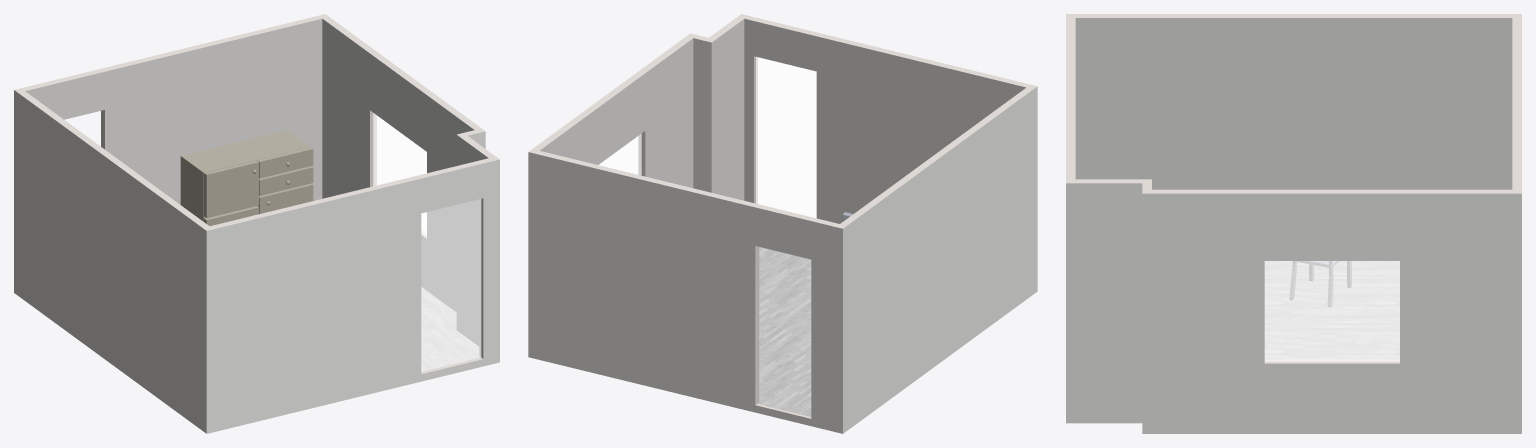
3 renders of one model, left to right at view 1: azimuth 30°, elevation 25°; view 2: azimuth 150°, elevation 25°; view 3: azimuth 270°, elevation 25°, orthographic. The views are drawn at different scales.
Visible parts, largest first — view 1: wall_0, wall_2, wall_16, wall_8, storage_cabinet_mid20, door_0, door_2, wall_12, floor_Other, window_0, window_2, wall_7 (+3 smaller); view 2: wall_5, wall_2, wall_6, wall_8, door_0, door_2, floor_Other, wall_12, wall_14, wall_17, wall_7, wall_9 (+3 smaller); view 3: wall_1, wall_10, wall_3, window_0, window_2, floor_Other, wall_9, wall_11, wall_17, wall_7, chair_other_four_back_no0.
Boxes of the visible parts, box(x1,y1,x2,y2) form: wall_0: box(206, 159, 499, 433); wall_2: box(14, 90, 206, 433); wall_16: box(25, 19, 322, 204); wall_8: box(322, 19, 474, 311); storage_cabinet_mid20: box(180, 130, 313, 225); door_0: box(421, 199, 480, 371); door_2: box(421, 199, 480, 371); wall_12: box(456, 135, 488, 345); floor_Other: box(421, 287, 480, 371); window_0: box(373, 113, 426, 185); window_2: box(373, 113, 426, 185); wall_7: box(207, 158, 499, 374); wall_5: box(528, 152, 842, 433); wall_2: box(843, 86, 1037, 433); wall_6: box(744, 18, 1025, 223); wall_8: box(540, 38, 693, 187); door_0: box(756, 57, 816, 217); door_2: box(756, 57, 816, 217); floor_Other: box(758, 247, 811, 416); wall_12: box(711, 19, 744, 200); wall_14: box(693, 38, 711, 192); wall_17: box(529, 150, 842, 418); wall_7: box(741, 14, 1036, 203); wall_9: box(529, 33, 692, 176); wall_1: box(1142, 193, 1521, 433); wall_10: box(1075, 18, 1512, 189); wall_3: box(1066, 183, 1142, 423); window_0: box(1265, 261, 1399, 361); window_2: box(1265, 261, 1399, 361); floor_Other: box(1265, 261, 1399, 359); wall_9: box(1143, 189, 1520, 363); wall_11: box(1066, 14, 1521, 17); wall_17: box(1512, 14, 1521, 193); wall_7: box(1066, 14, 1075, 182); chair_other_four_back_no0: box(1289, 261, 1351, 306).
Bounding box in the file's own units: 4.45 × 2.77 × 4.77.
Materials: 20 (1 with a texture image).
